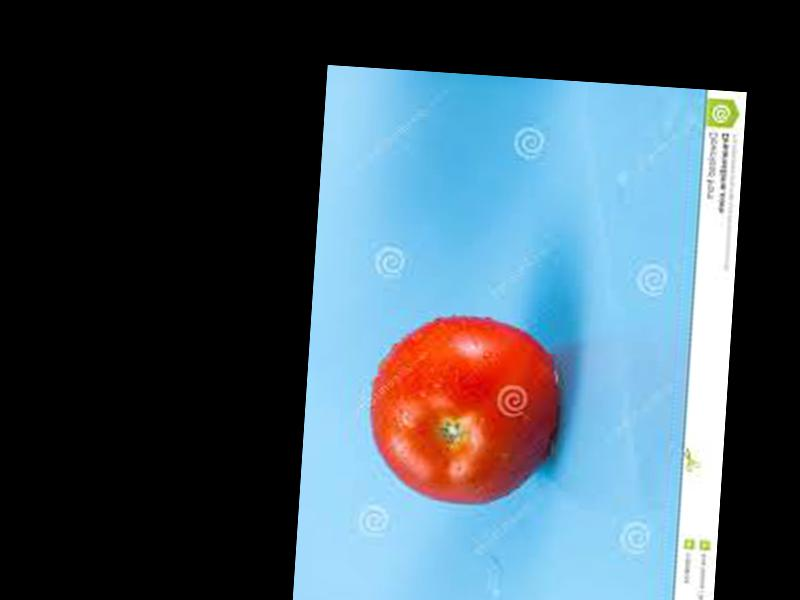Tomato: (365, 310, 562, 512)
